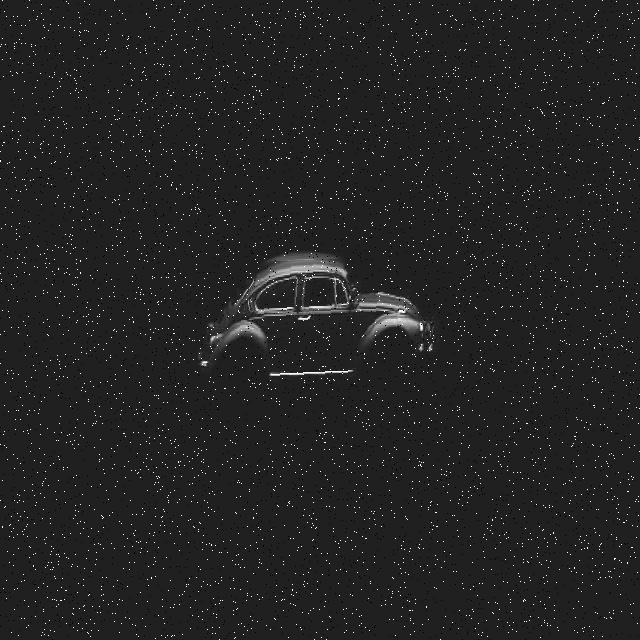car: (199, 255, 439, 391)
